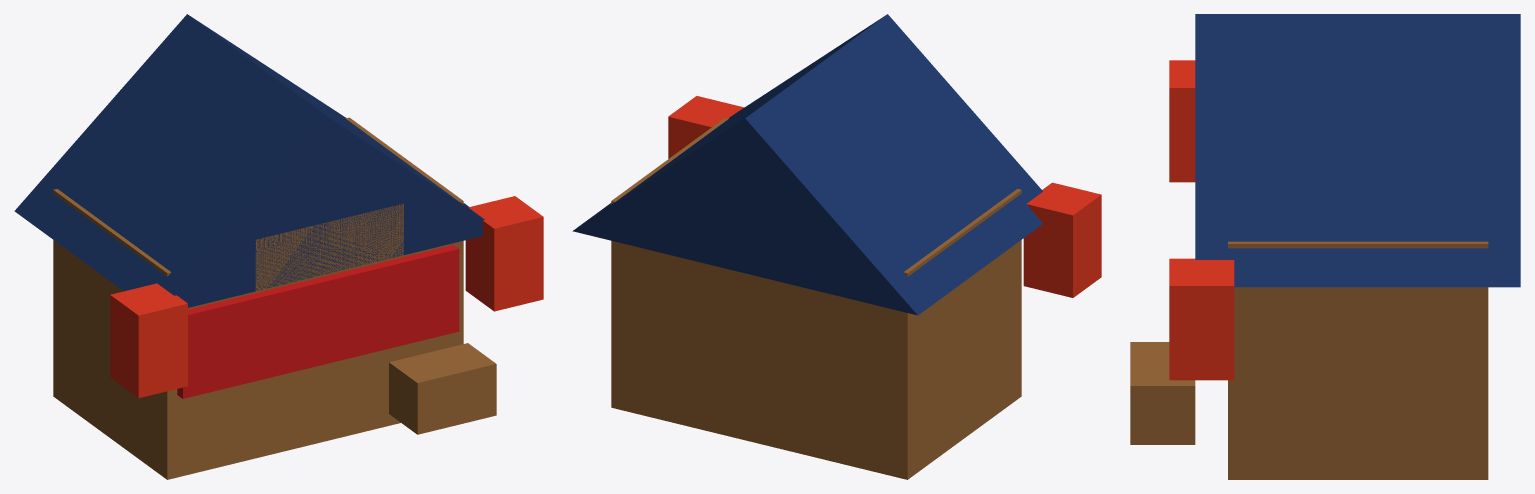
File: DangoShop.obj
3 views of the same model, side by side, from view 1: azimuth 30°, elevation 25°; view 2: azimuth 150°, elevation 25°; view 3: azimuth 270°, elevation 25° (orthographic). The views are drawn at different scales.
Size of the model in its own units: 4.1 by 3.25 by 3.
